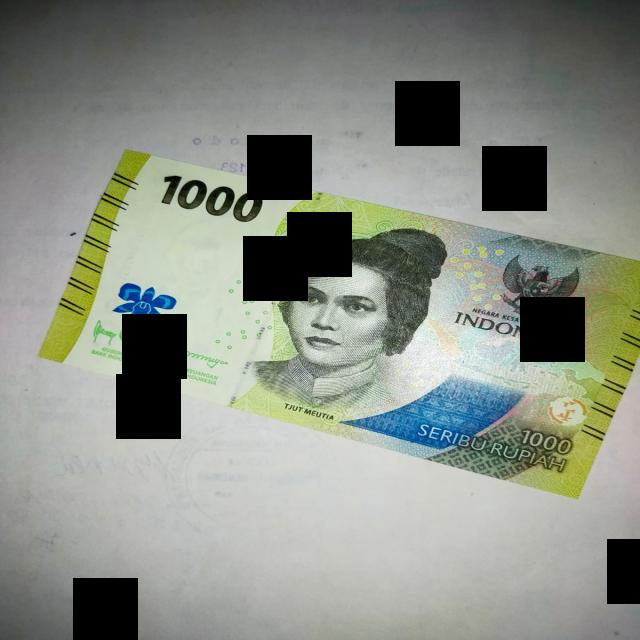seribu rupiah: (40, 151, 638, 497)
